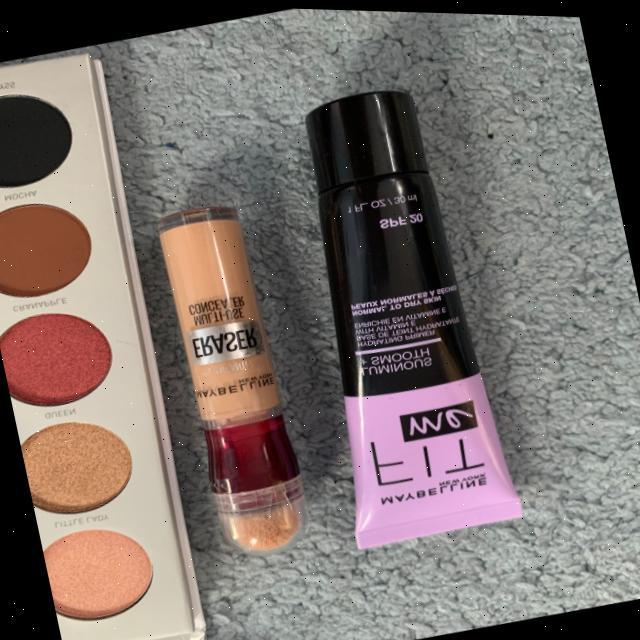concealer: (130, 182, 334, 586)
eye shade: (0, 66, 182, 639)
primer: (243, 58, 538, 572)
